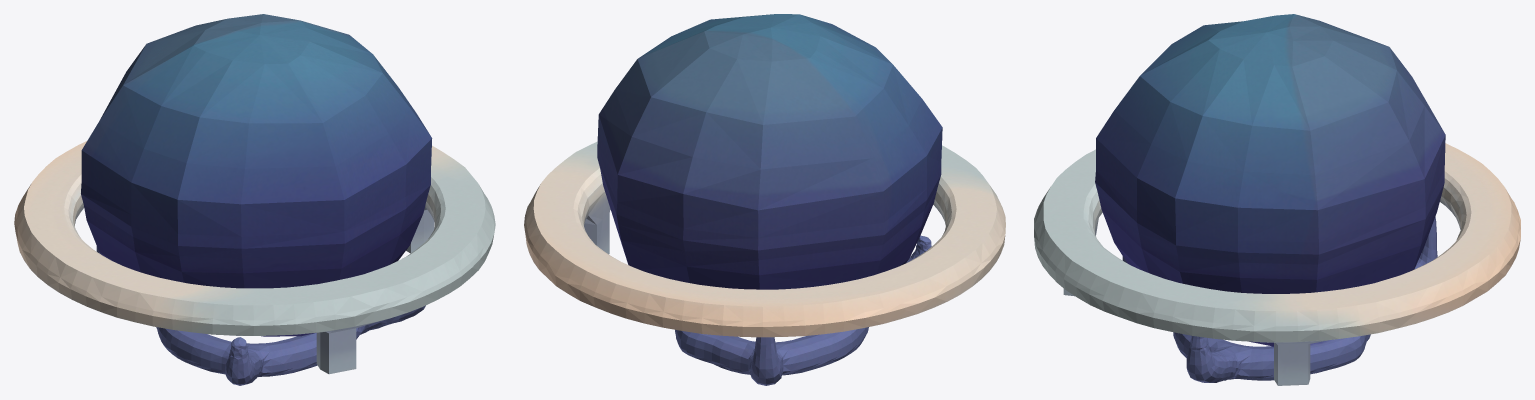
File: sphere-package-with-cradle.gltf
3 renders of one model, left to right at view 1: azimuth 30°, elevation 25°; view 2: azimuth 150°, elevation 25°; view 3: azimuth 270°, elevation 25°, orthographic.
Visible parts, largest first — view 1: tripo_node_dd3c0e54-b940-4a0e-a97b-38f0f507f7b3; view 2: tripo_node_dd3c0e54-b940-4a0e-a97b-38f0f507f7b3; view 3: tripo_node_dd3c0e54-b940-4a0e-a97b-38f0f507f7b3.
Boxes of the visible parts, left/top/right/bottom form: tripo_node_dd3c0e54-b940-4a0e-a97b-38f0f507f7b3: left=14, top=14, right=495, bottom=385; tripo_node_dd3c0e54-b940-4a0e-a97b-38f0f507f7b3: left=524, top=14, right=1005, bottom=385; tripo_node_dd3c0e54-b940-4a0e-a97b-38f0f507f7b3: left=1034, top=14, right=1520, bottom=385.
Size of the model in its own units: 0.998 by 0.6934 by 0.998.
1 material, 1 textured.
